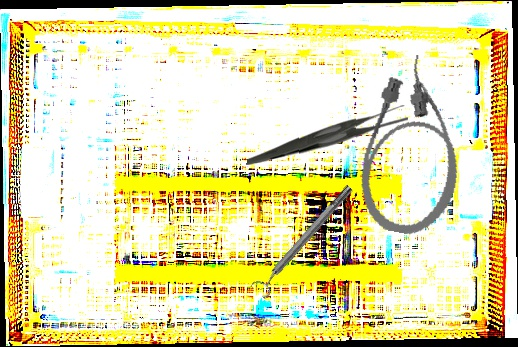Cannula: (350, 48, 480, 242)
Dressing Forceps: (246, 102, 409, 168)
Fixation Ring: (248, 180, 360, 301)
